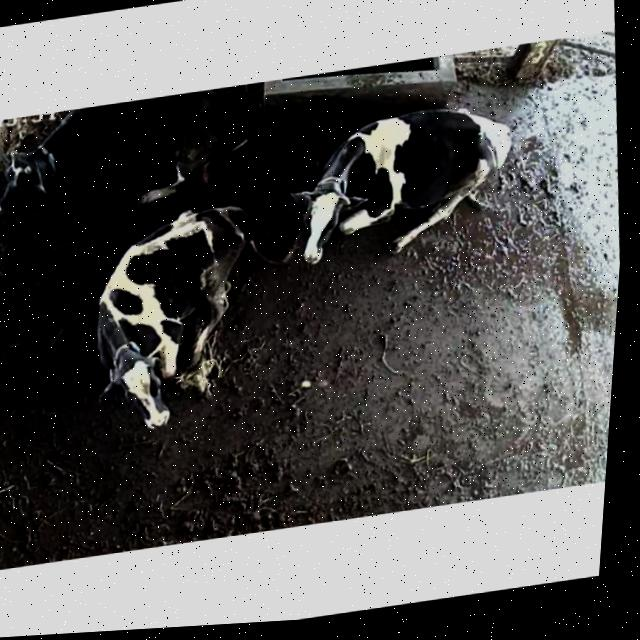lay: (269, 79, 539, 300), (60, 197, 293, 448), (0, 82, 264, 242)
